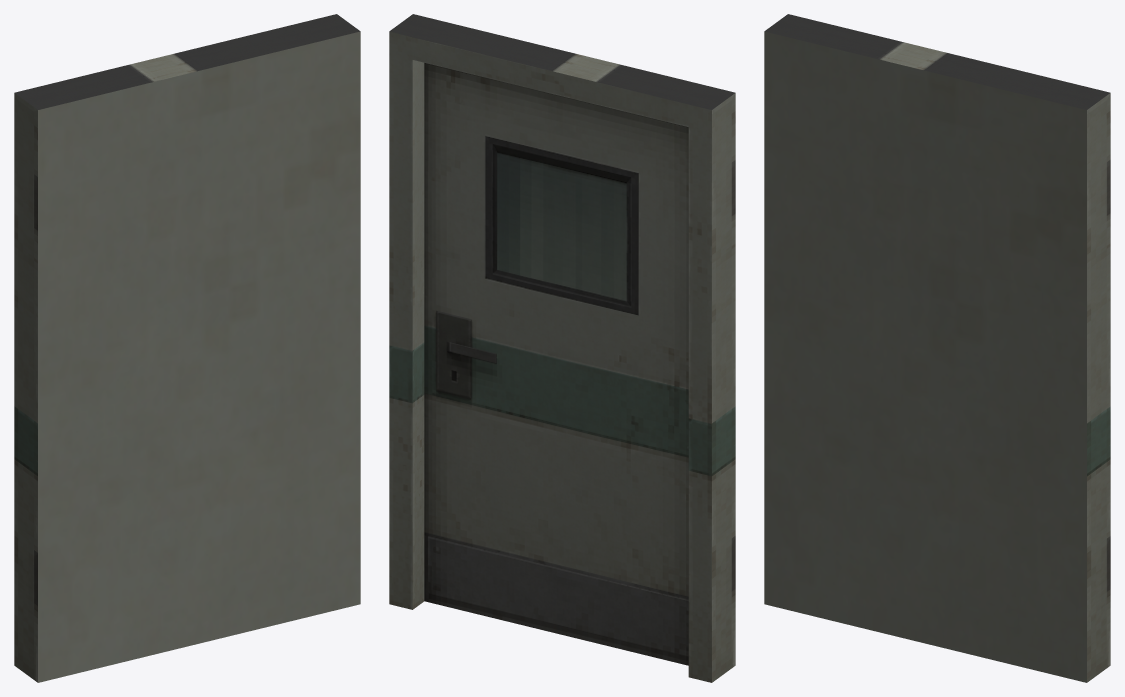
Rendered from hospitalDoor.glb.
3 views of the same model, side by side, from view 1: azimuth 30°, elevation 25°; view 2: azimuth 150°, elevation 25°; view 3: azimuth 330°, elevation 25° (orthographic).
Visible parts, largest first — view 1: Door; view 2: Door; view 3: Door.
Part boxes in pixels (<box>): Door: <box>14,14,360,682</box>; Door: <box>389,14,735,682</box>; Door: <box>764,14,1110,682</box>.
Size of the model in its own units: 1.94 by 3.29 by 0.2481.
1 material, 1 textured.
